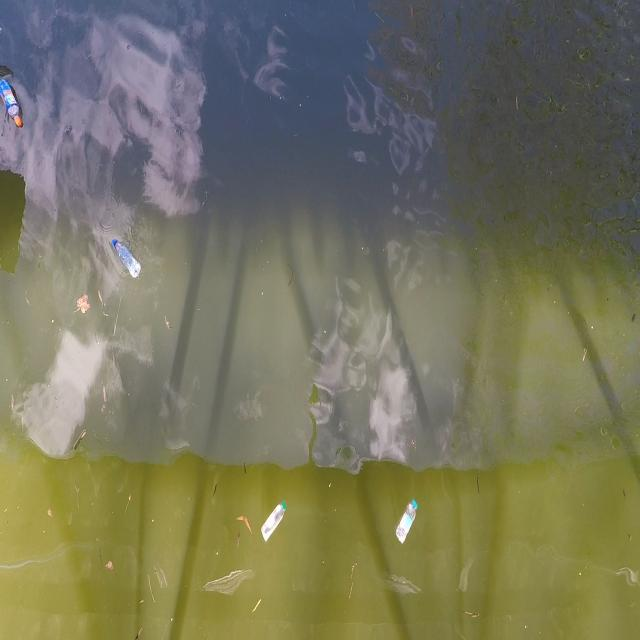Bouteille plastique: (110, 235, 142, 285), (0, 79, 28, 135), (256, 501, 288, 548), (396, 496, 421, 552)
